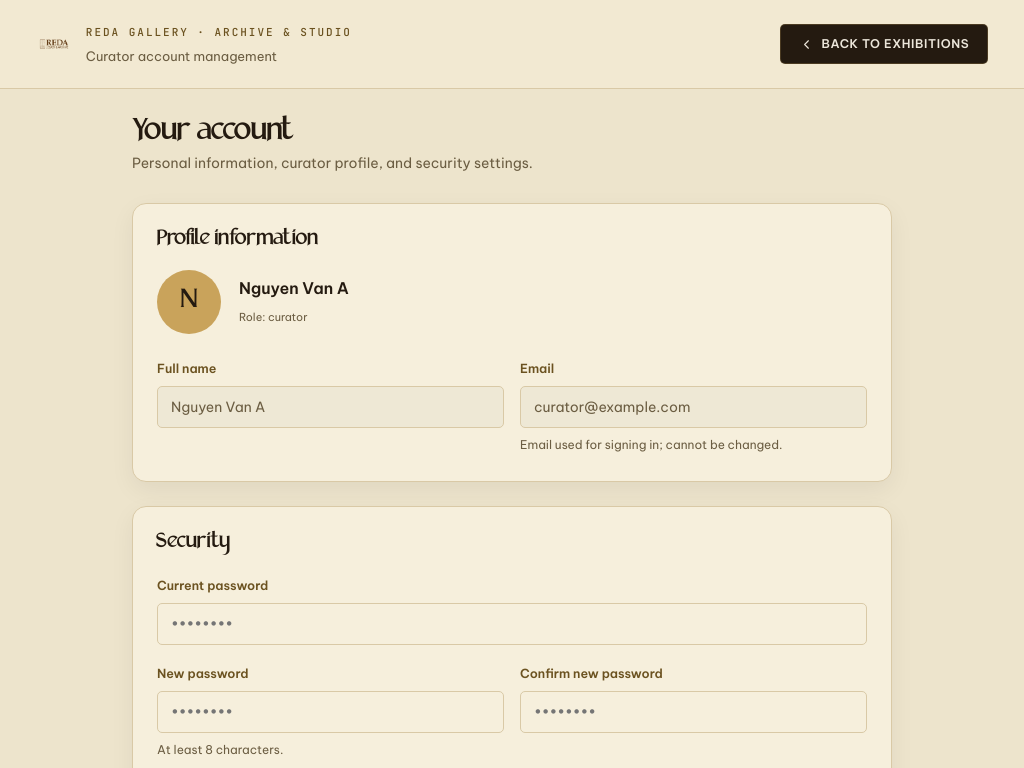
it: Account component › enables submit button when passwords match and are at least 8 characters
In the password field labelled "Current password": (512, 624) [157, 603, 867, 645], type "oldpass123"
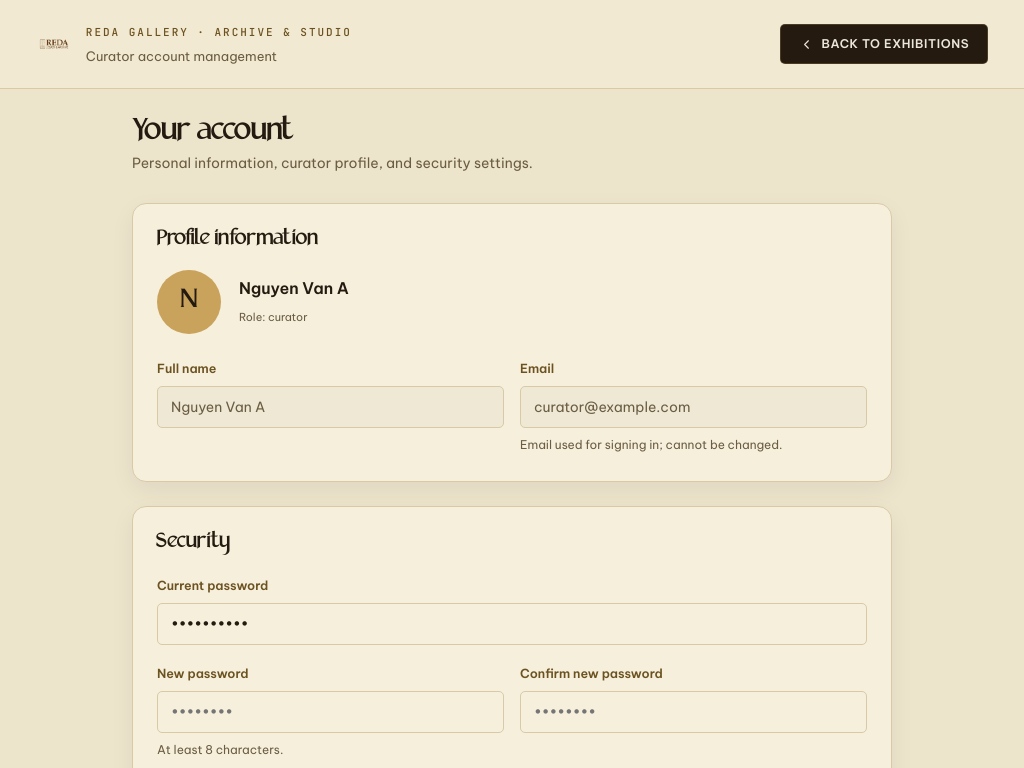
In the password field labelled "New password": (330, 712) [157, 691, 504, 733], type "password123"
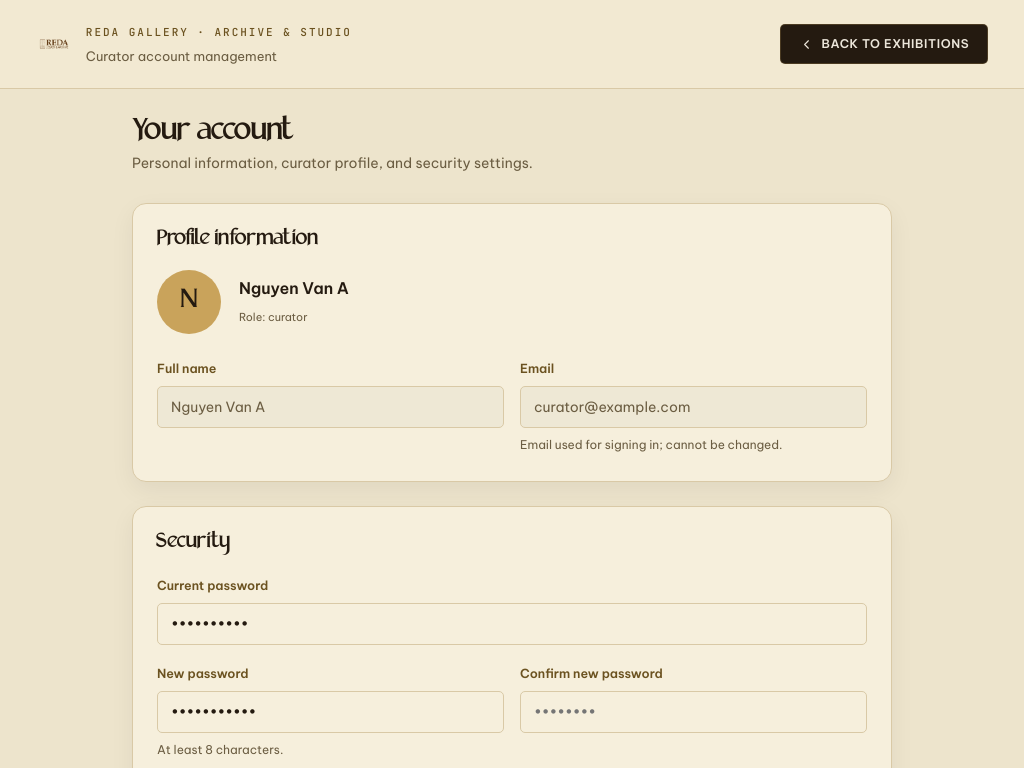
In the password field labelled "Confirm new password": (694, 712) [520, 691, 867, 733], type "password123"
(page scrolled)
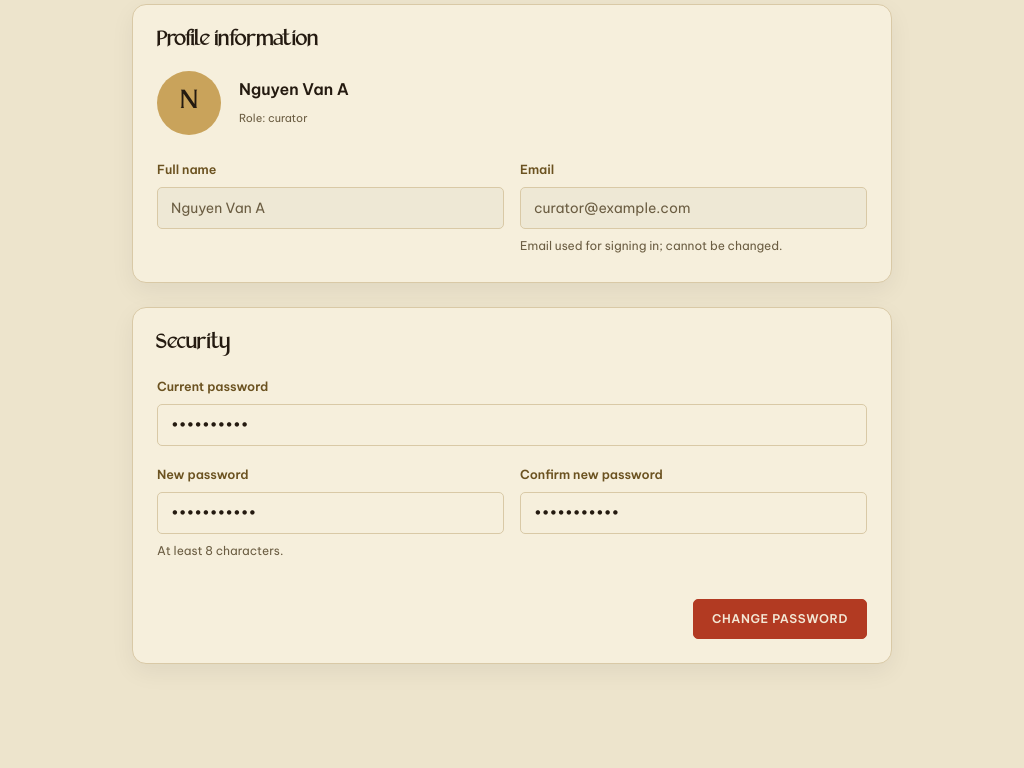
Expected: the button "Change password" is enabled, [693, 599, 867, 639]
